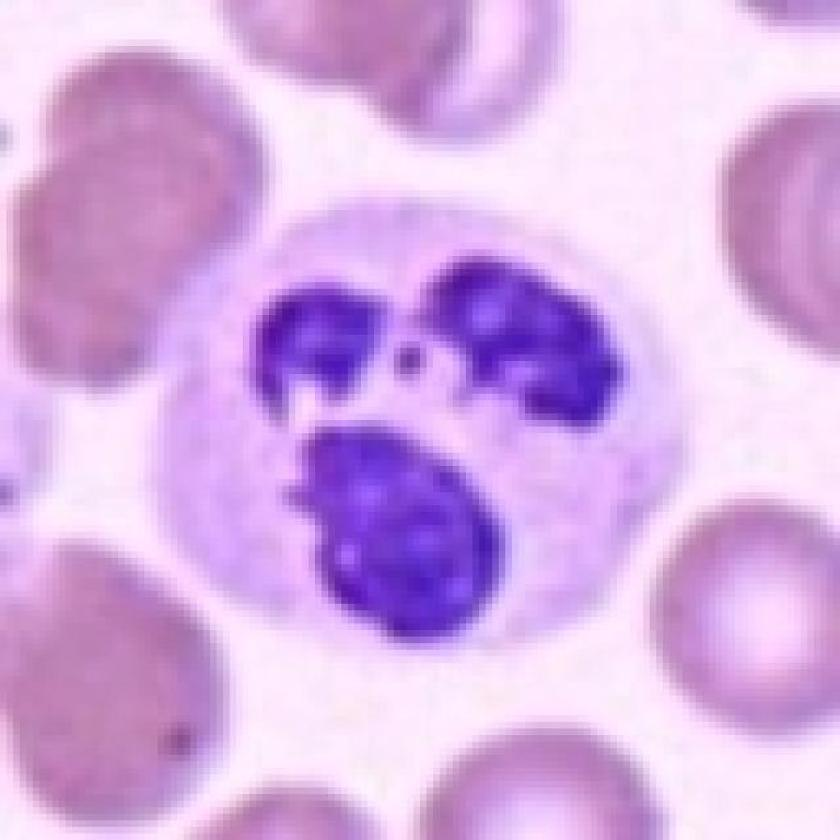neutrophil: (147, 199, 690, 659)
